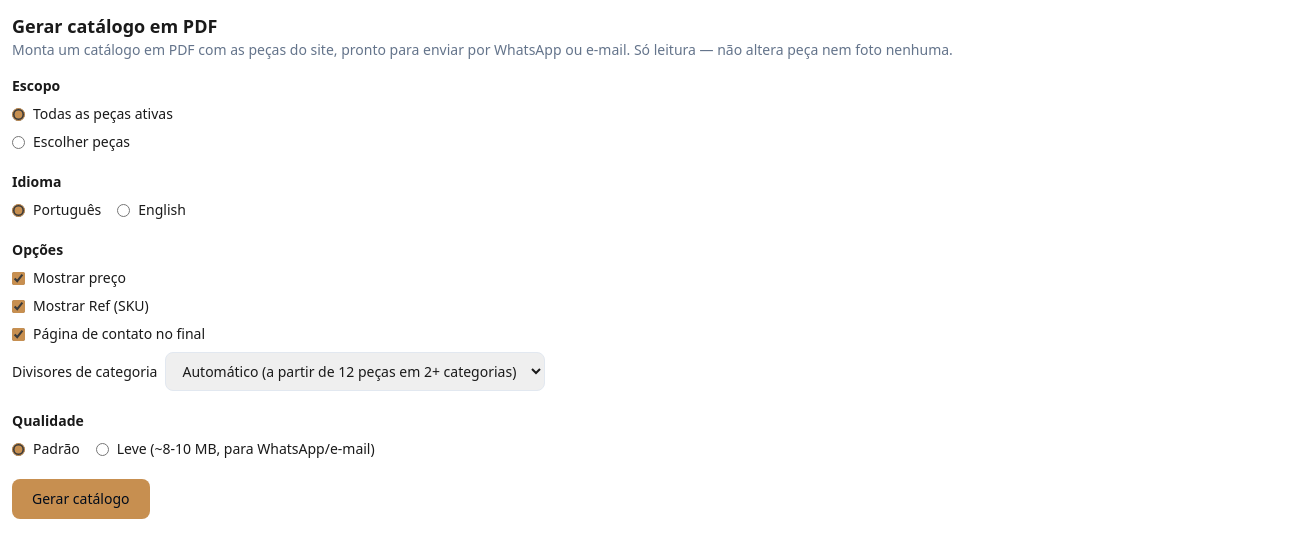
Test case: CatalogGenerator › mostra erro e permite tentar de novo quando a geração falha
Click the button "Gerar catálogo". click: (81, 499)
box: left=12, top=479, right=150, bottom=519
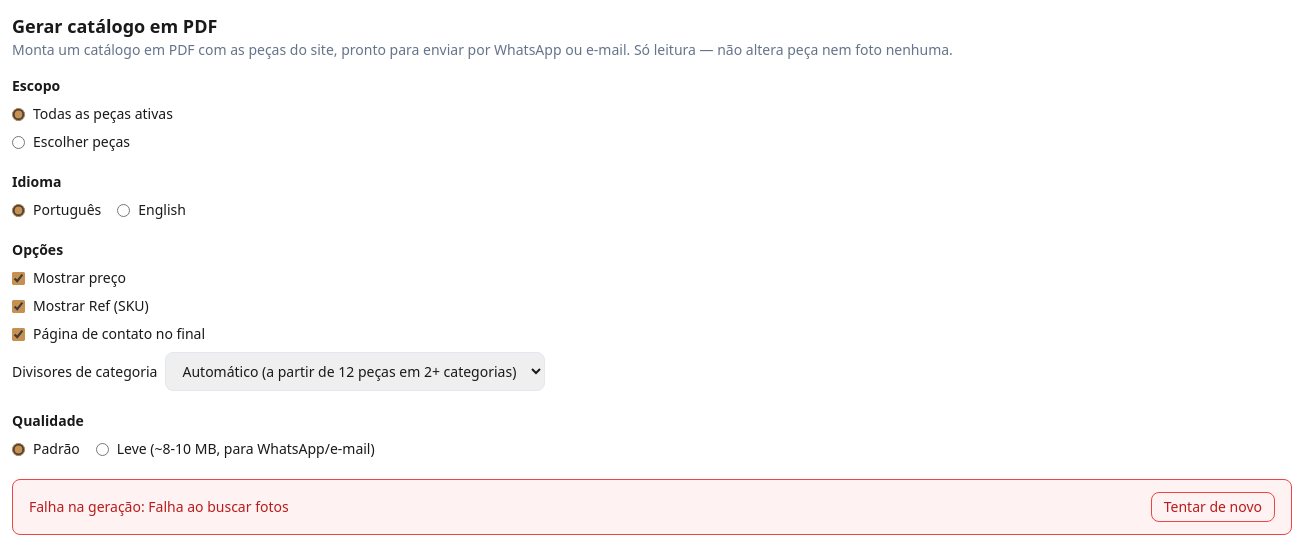
Expected: the text "Falha na geração: Falha ao buscar fotos" is shown, left=29, top=497, right=289, bottom=517
Click the button "Tentar de novo". click: (1213, 507)
box: left=1151, top=492, right=1275, bottom=522
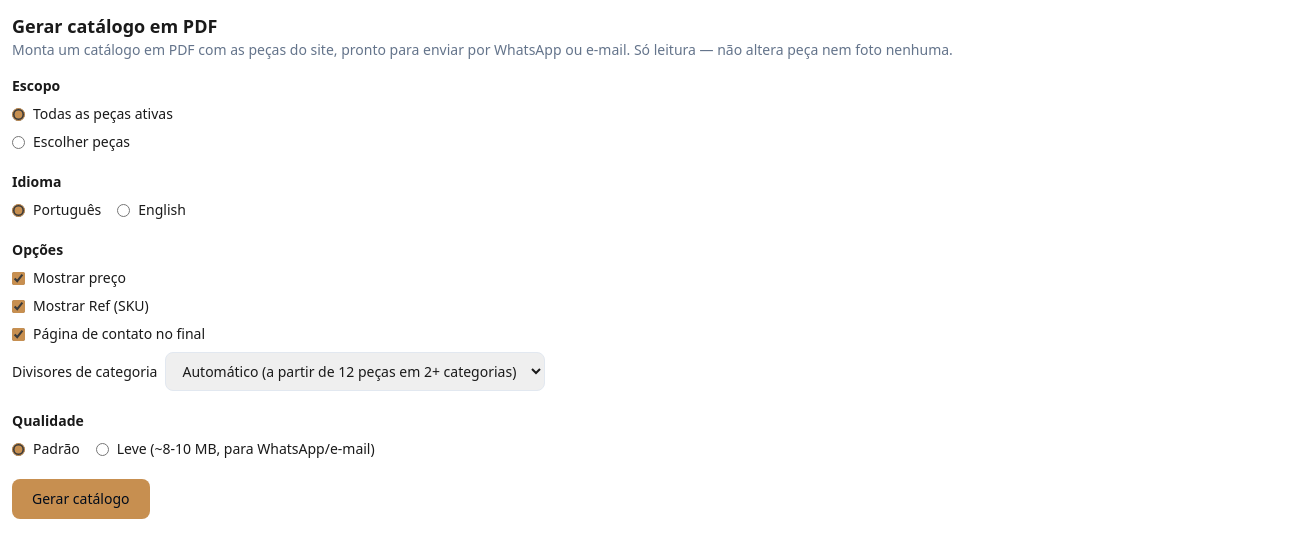
Expected: the button "Gerar catálogo" is shown, left=12, top=479, right=150, bottom=519
